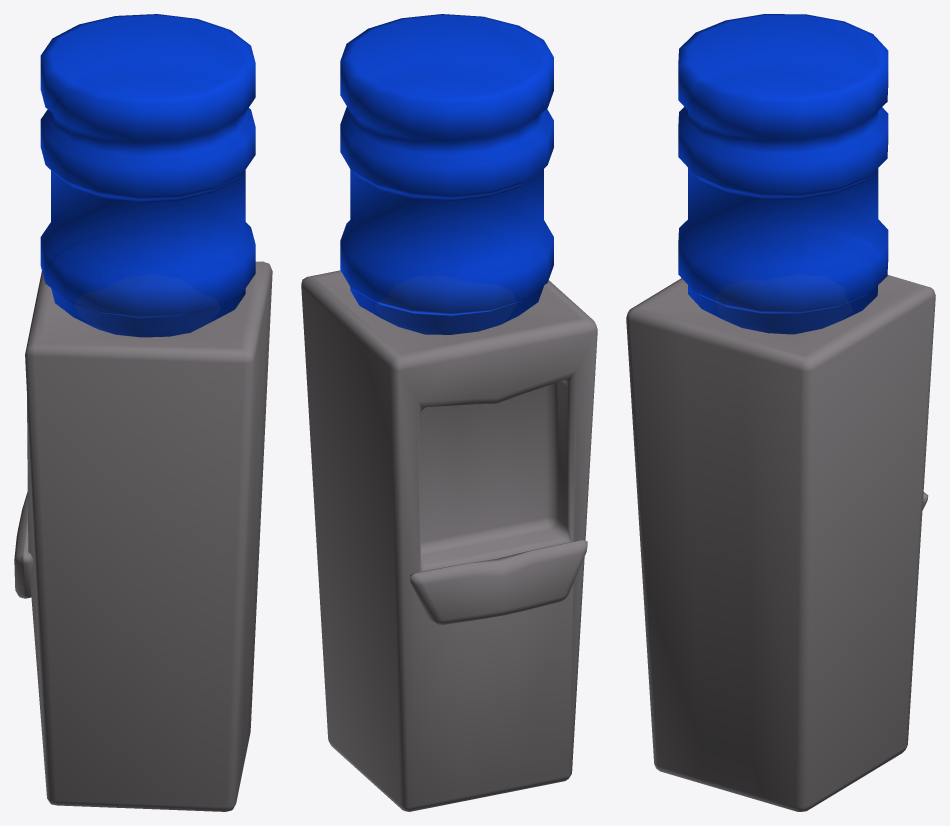
The model's file is GalaoDagua.fbx.
3 renders of one model, left to right at view 1: azimuth 30°, elevation 25°; view 2: azimuth 150°, elevation 25°; view 3: azimuth 270°, elevation 25°, orthographic.
Visible parts, largest first — view 1: CorpoDoBebedouro, Galao; view 2: CorpoDoBebedouro, Galao; view 3: CorpoDoBebedouro, Galao.
Boxes of the visible parts, x1,y1,x2,y2 form: CorpoDoBebedouro: (14, 261, 272, 811); Galao: (40, 14, 255, 337); CorpoDoBebedouro: (301, 270, 597, 811); Galao: (340, 14, 553, 334); CorpoDoBebedouro: (626, 275, 935, 811); Galao: (678, 14, 888, 334).
Bounding box in the file's own units: 73.39 × 185 × 73.36.
